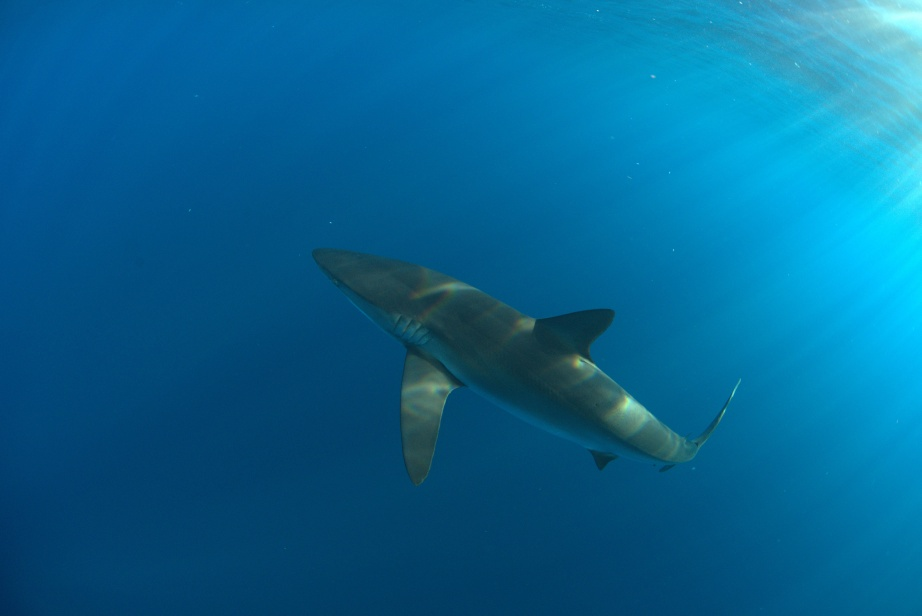Sedoso: (277, 218, 755, 498)
